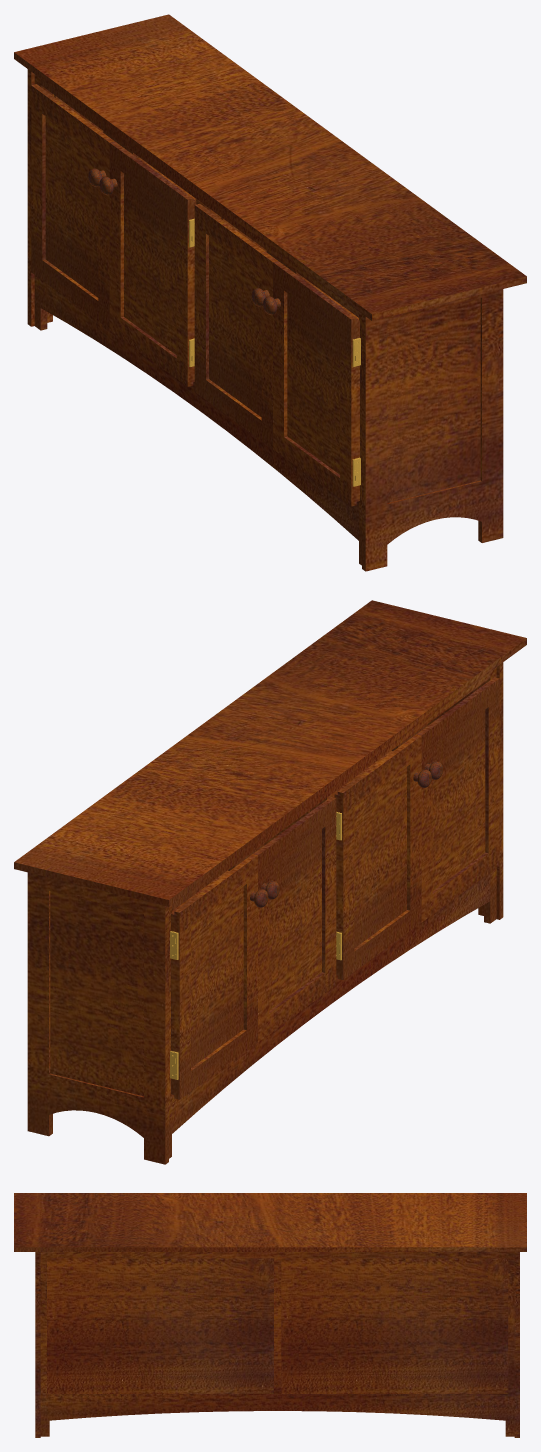
3 renders of one model, top to bottom at view 1: azimuth 30°, elevation 25°; view 2: azimuth 150°, elevation 25°; view 3: azimuth 270°, elevation 25°, orthographic. The views are drawn at different scales.
Visible parts, largest first — view 1: mesh47_mesh47-geometry, mesh71_mesh71-geometry, mesh3_mesh3-geometry, mesh5_mesh5-geometry, mesh67_mesh67-geometry, mesh65_mesh65-geometry, mesh94_mesh94-geometry, mesh2_mesh2-geometry, mesh23_mesh23-geometry; view 2: mesh47_mesh47-geometry, mesh94_mesh94-geometry, mesh3_mesh3-geometry, mesh5_mesh5-geometry, mesh67_mesh67-geometry, mesh65_mesh65-geometry, mesh71_mesh71-geometry, mesh2_mesh2-geometry, mesh23_mesh23-geometry; view 3: mesh61_mesh61-geometry, mesh59_mesh59-geometry, mesh47_mesh47-geometry, mesh142_mesh142-geometry, mesh71_mesh71-geometry, mesh94_mesh94-geometry.
Boxes of the visible parts, <box> form: mesh47_mesh47-geometry: <box>14,14,526,320</box>; mesh71_mesh71-geometry: <box>362,289,503,571</box>; mesh3_mesh3-geometry: <box>31,84,359,506</box>; mesh5_mesh5-geometry: <box>45,116,339,474</box>; mesh67_mesh67-geometry: <box>34,74,358,540</box>; mesh65_mesh65-geometry: <box>40,79,358,317</box>; mesh94_mesh94-geometry: <box>27,69,103,326</box>; mesh2_mesh2-geometry: <box>88,168,280,314</box>; mesh23_mesh23-geometry: <box>189,219,360,486</box>; mesh47_mesh47-geometry: <box>14,600,526,906</box>; mesh94_mesh94-geometry: <box>27,872,168,1164</box>; mesh3_mesh3-geometry: <box>171,677,499,1099</box>; mesh5_mesh5-geometry: <box>191,709,485,1067</box>; mesh67_mesh67-geometry: <box>169,791,490,1158</box>; mesh65_mesh65-geometry: <box>172,672,490,910</box>; mesh71_mesh71-geometry: <box>427,662,503,919</box>; mesh2_mesh2-geometry: <box>250,761,442,907</box>; mesh23_mesh23-geometry: <box>170,812,341,1079</box>; mesh61_mesh61-geometry: <box>281,1258,508,1393</box>; mesh59_mesh59-geometry: <box>47,1258,273,1393</box>; mesh47_mesh47-geometry: <box>14,1193,526,1251</box>; mesh142_mesh142-geometry: <box>40,1252,514,1436</box>; mesh71_mesh71-geometry: <box>35,1252,40,1437</box>; mesh94_mesh94-geometry: <box>514,1252,519,1437</box>.
Size of the model in its own units: 0.2381 by 0.3735 by 0.8965.
